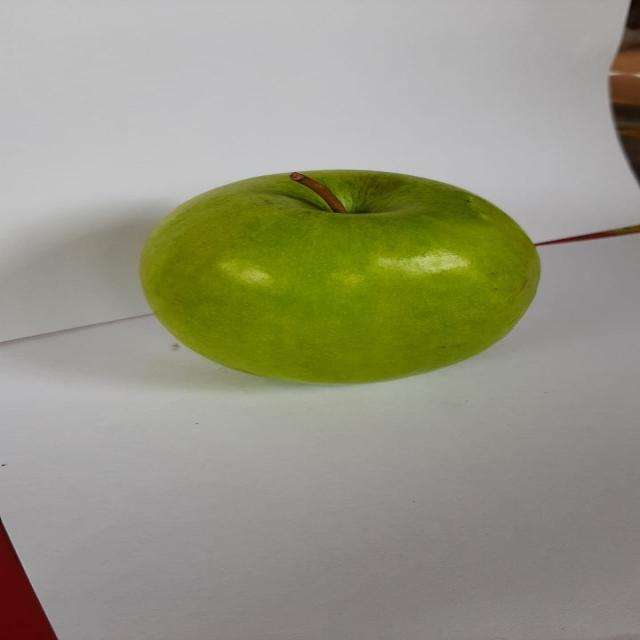50-_ripeness: (133, 162, 551, 391)
